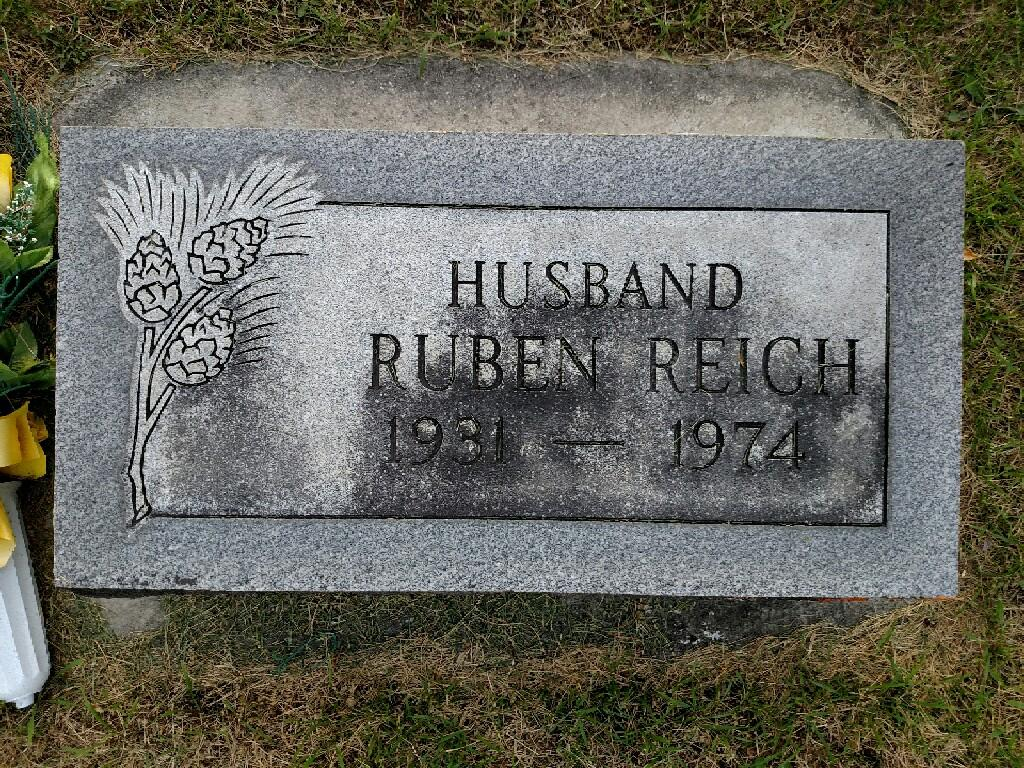flat: (56, 123, 968, 600)
